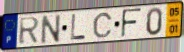0: (146, 6, 165, 38)
C: (92, 12, 114, 39)
F: (120, 7, 143, 39)
L: (70, 13, 87, 42)
N: (41, 13, 62, 45)
R: (18, 16, 41, 46)
